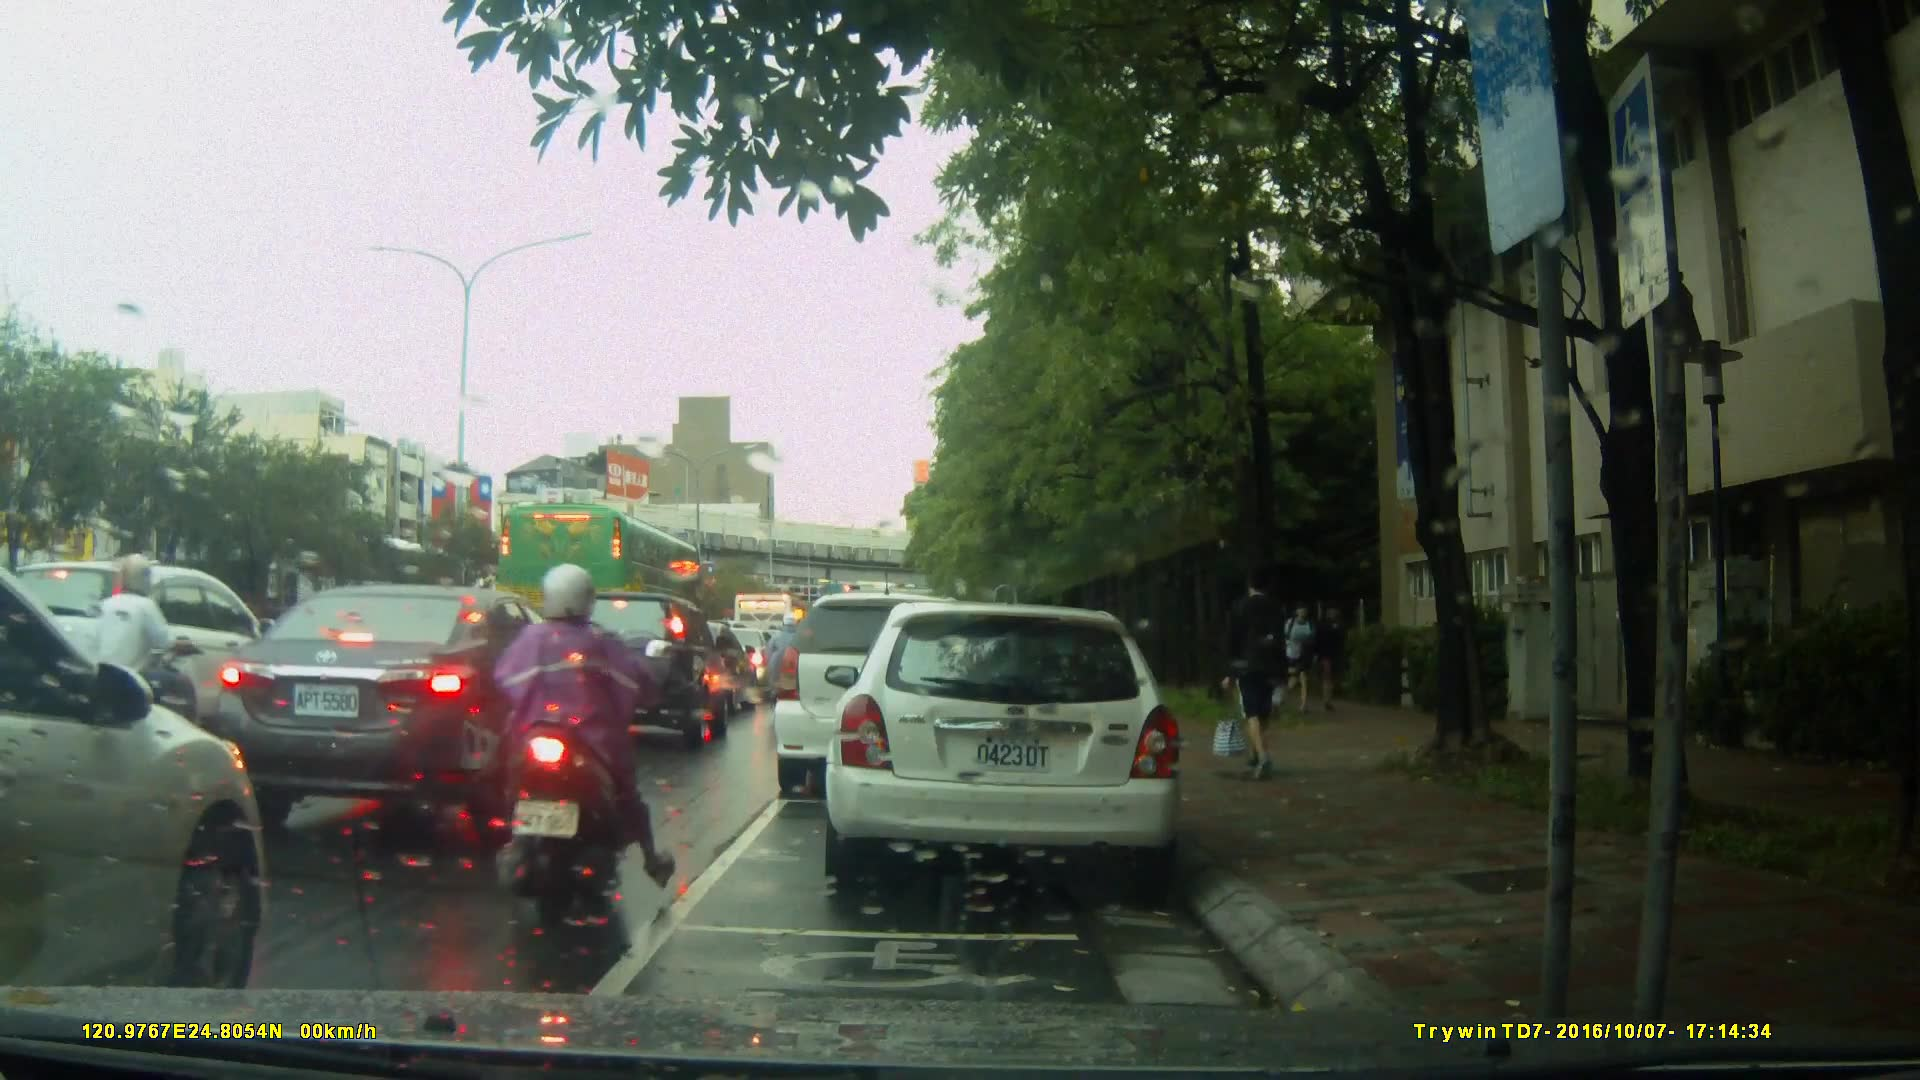pedestrian: (1215, 562, 1299, 783), (1277, 596, 1321, 713), (1316, 600, 1357, 707)
rider: (498, 566, 682, 924), (100, 555, 215, 803), (768, 612, 809, 713)
vehicle: (1, 531, 276, 987), (831, 592, 1196, 897), (211, 581, 614, 848), (15, 559, 284, 755), (770, 592, 999, 799), (494, 501, 707, 648), (541, 587, 734, 746)
